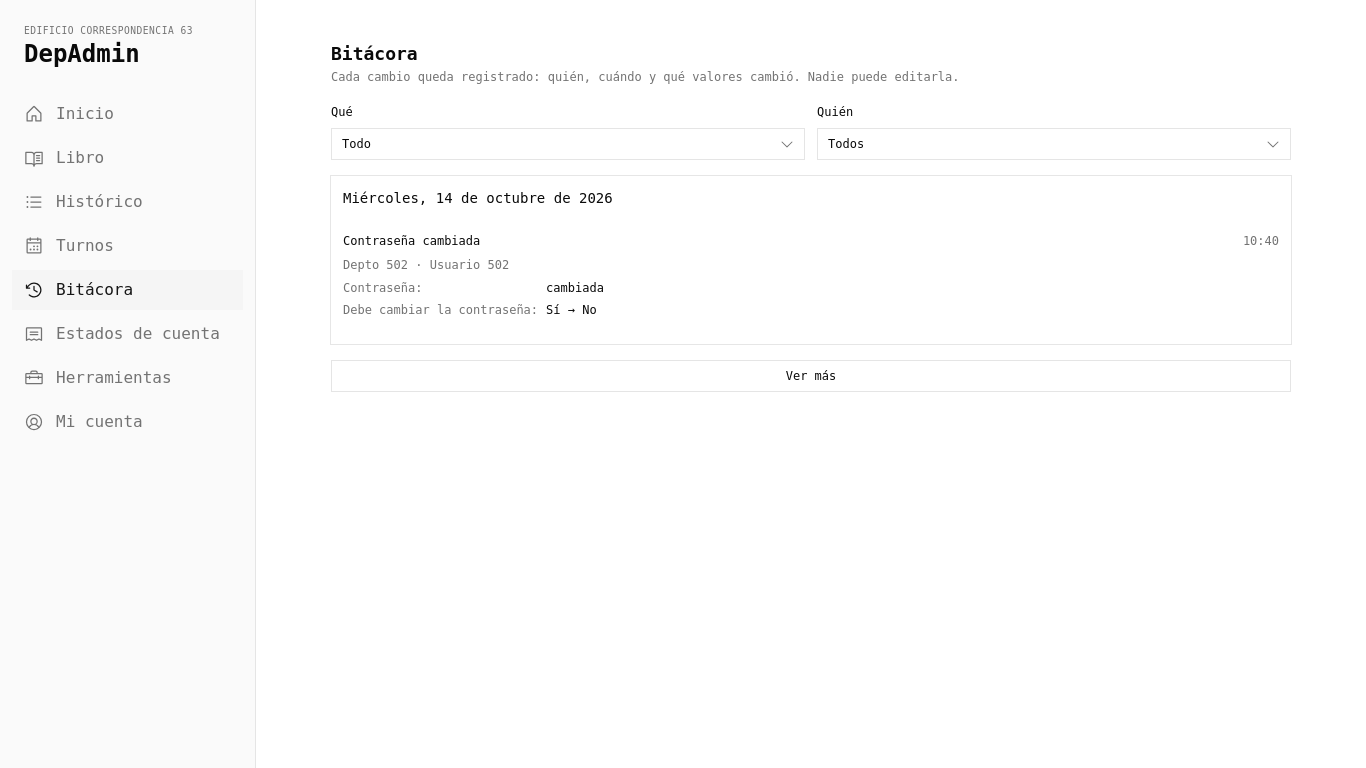
Test case: AuditLogPage › loads older entries on demand
The width and height of the screenshot is (1366, 768).
Step 1. Click the button "Ver más" → x=811, y=376, box [331,360,1291,392]
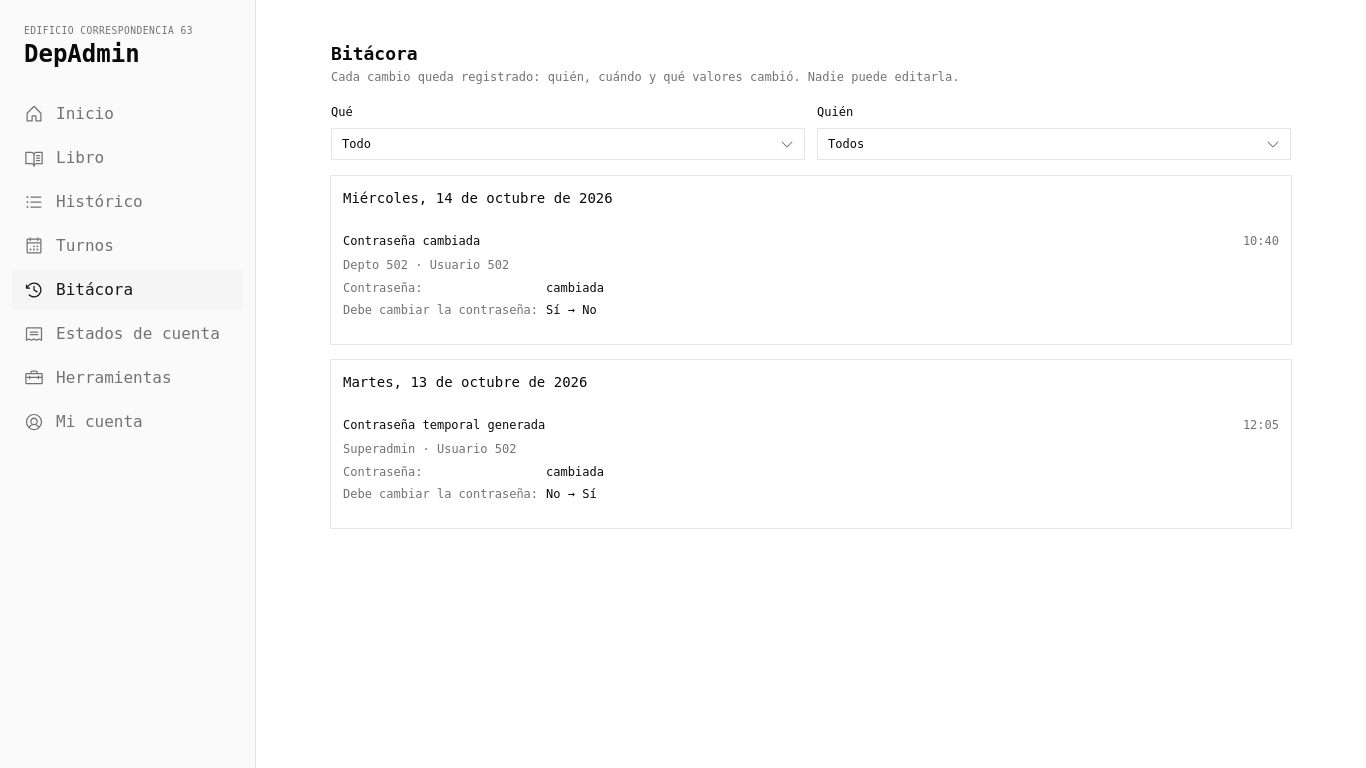
Now the text "Contraseña temporal generada" is shown, box [343,416,545,436]
Now the button "Ver más" is gone
